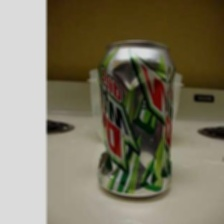can: (92, 38, 177, 203)
